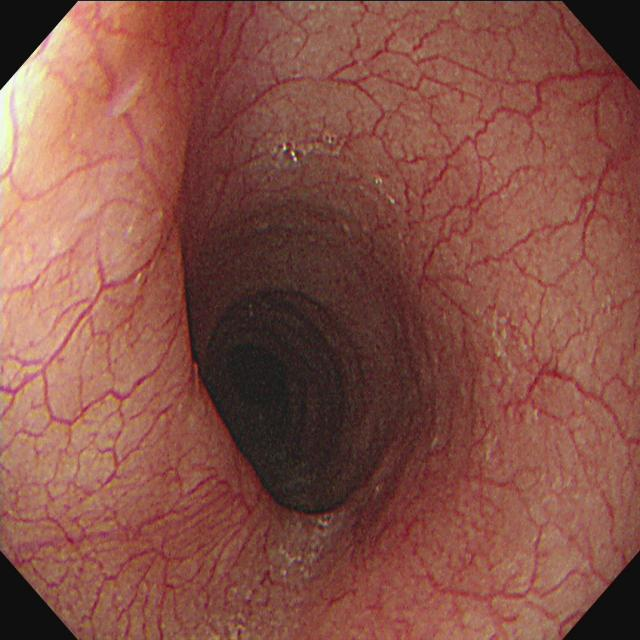J: (476, 310, 539, 386), (276, 515, 340, 579), (484, 432, 499, 465)
T: (272, 142, 307, 168)
